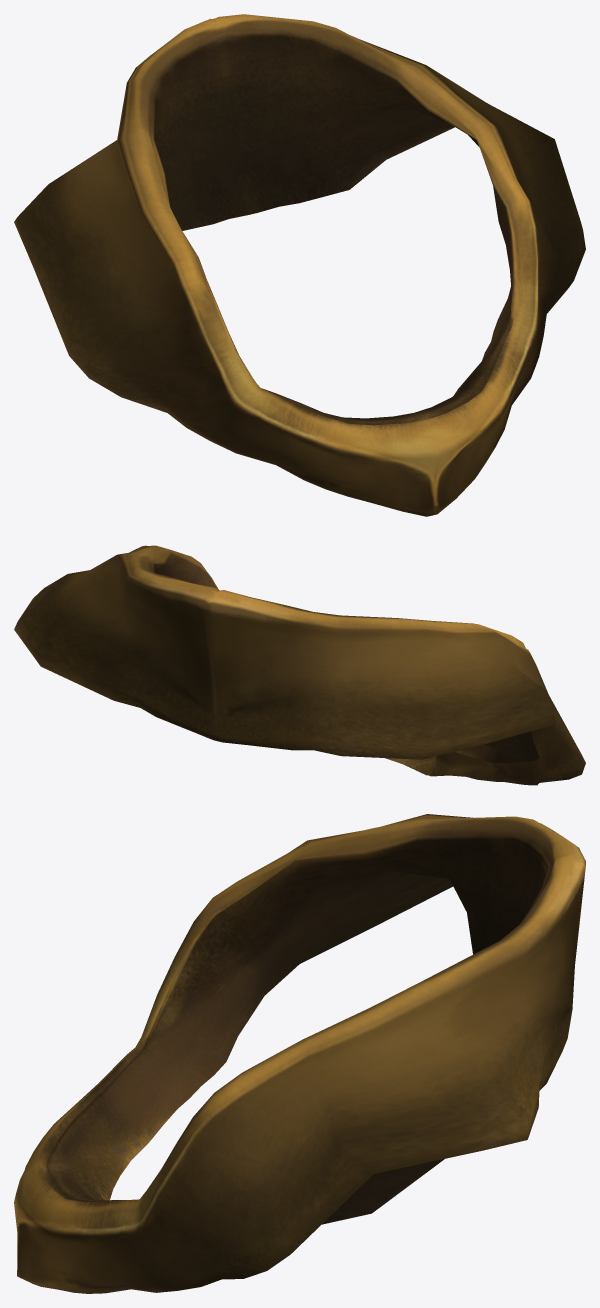
The model's file is sm_dwarf_dhodin_chest_add.gltf.
The picture shows the model from 3 angles, top to bottom: view 1: azimuth 30°, elevation 25°; view 2: azimuth 150°, elevation 25°; view 3: azimuth 270°, elevation 25°; orthographic projection. The views are drawn at different scales.
Visible parts, largest first — view 1: sm_human_dhodin_chest_add; view 2: sm_human_dhodin_chest_add; view 3: sm_human_dhodin_chest_add.
Part boxes in pixels (box(x1,y1,x2,y2)): sm_human_dhodin_chest_add: box(14, 14, 585, 516); sm_human_dhodin_chest_add: box(14, 545, 585, 785); sm_human_dhodin_chest_add: box(14, 814, 585, 1293).
Size of the model in its own units: 47.14 by 29.58 by 35.82.
1 material, 1 textured.
